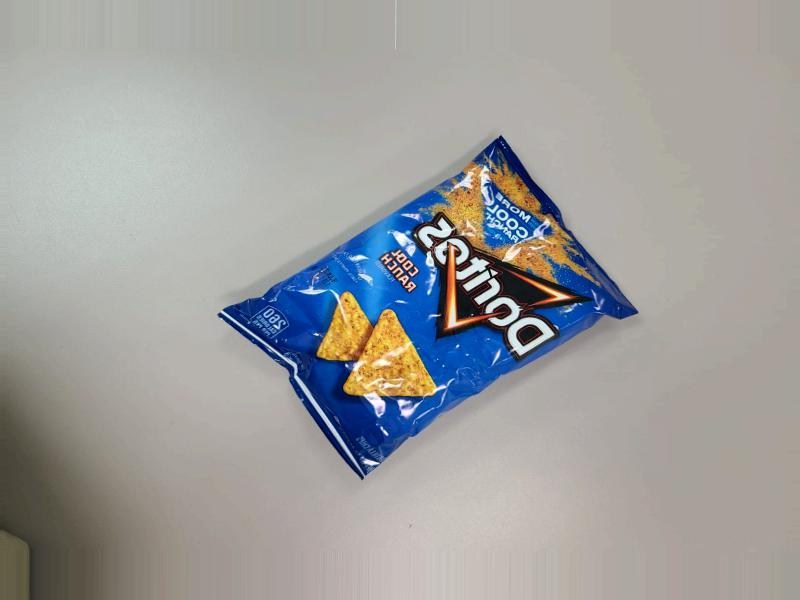doritos: (246, 111, 630, 490)
